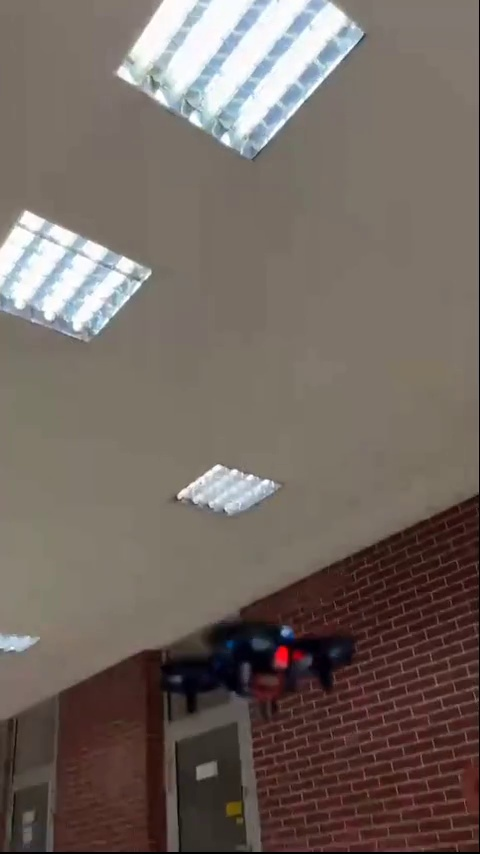drone: (166, 618, 354, 719)
